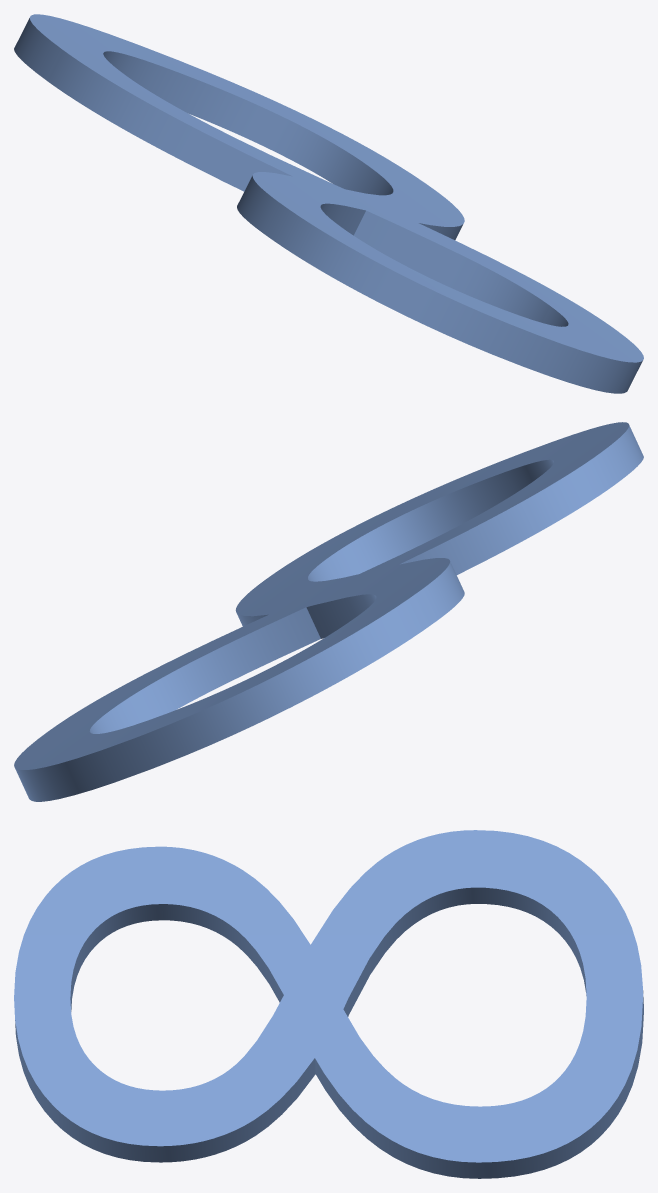
The model's file is New_Number_8.gltf.
The picture shows the model from 3 angles, top to bottom: view 1: azimuth 30°, elevation 25°; view 2: azimuth 150°, elevation 25°; view 3: azimuth 270°, elevation 25°; orthographic projection. The views are drawn at different scales.
Visible parts, largest first — view 1: Part 296; view 2: Part 296; view 3: Part 296.
Part boxes in pixels (x1,y1,x2,y2): Part 296: (14,14,643,393); Part 296: (14,422,643,801); Part 296: (14,830,643,1178).
Bounding box in the file's own units: 0.00323 × 0.00207 × 0.00566.
